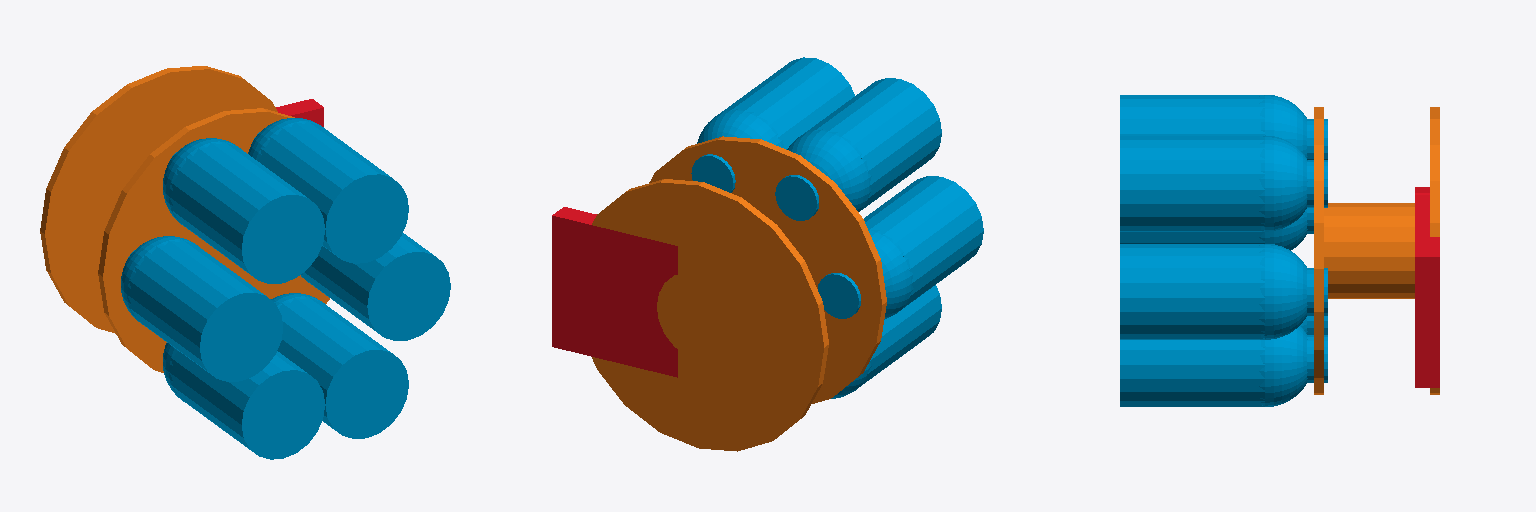
The model's file is tinker.obj.
3 renders of one model, left to right at view 1: azimuth 30°, elevation 25°; view 2: azimuth 150°, elevation 25°; view 3: azimuth 270°, elevation 25°, orthographic.
Visible parts, largest first — view 1: obj_0; view 2: obj_0; view 3: obj_0.
Part boxes in pixels (x1,y1,x2,y2): obj_0: (40,66,450,459); obj_0: (552,57,983,451); obj_0: (1120,95,1439,406).
Size of the model in its own units: 65 by 60 by 66.